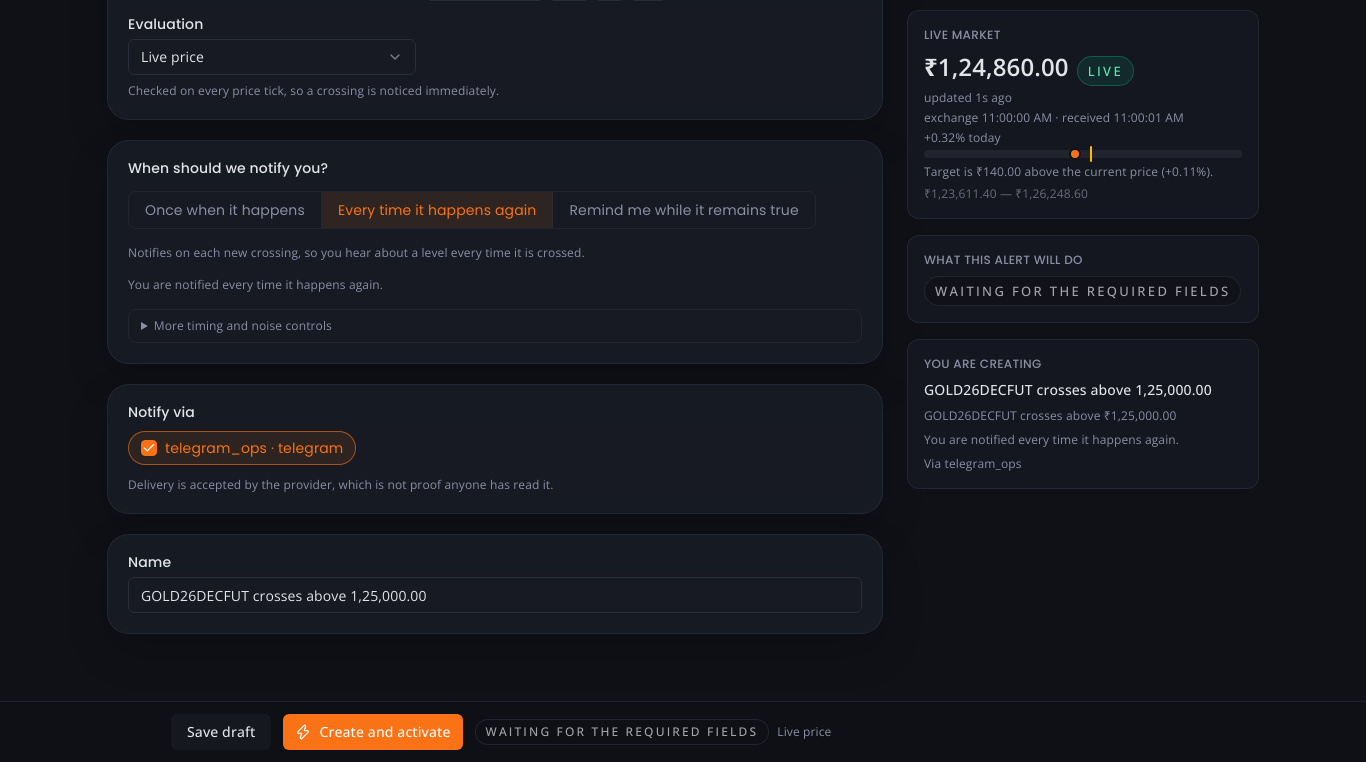
Test case: UnifiedAlertEditor › saves no destination when the operator clears the only one
(page scrolled)
Click the checkbox named "telegram_ops". click: point(149, 448)
box: [141,440,157,456]
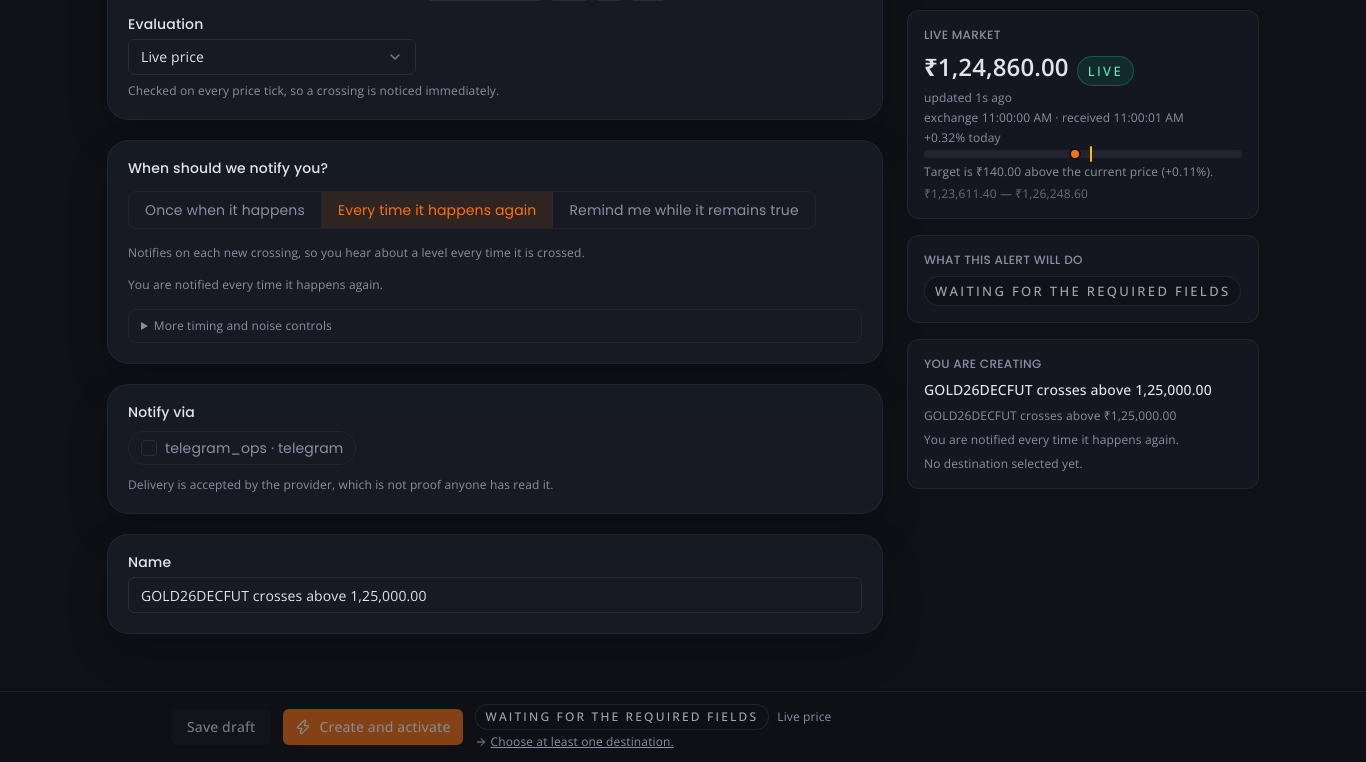
Expected: the link "Choose at least one destination." is shown, [490,734,674,750]
Expected: the button "Save draft" is disabled, [171,709,271,745]
